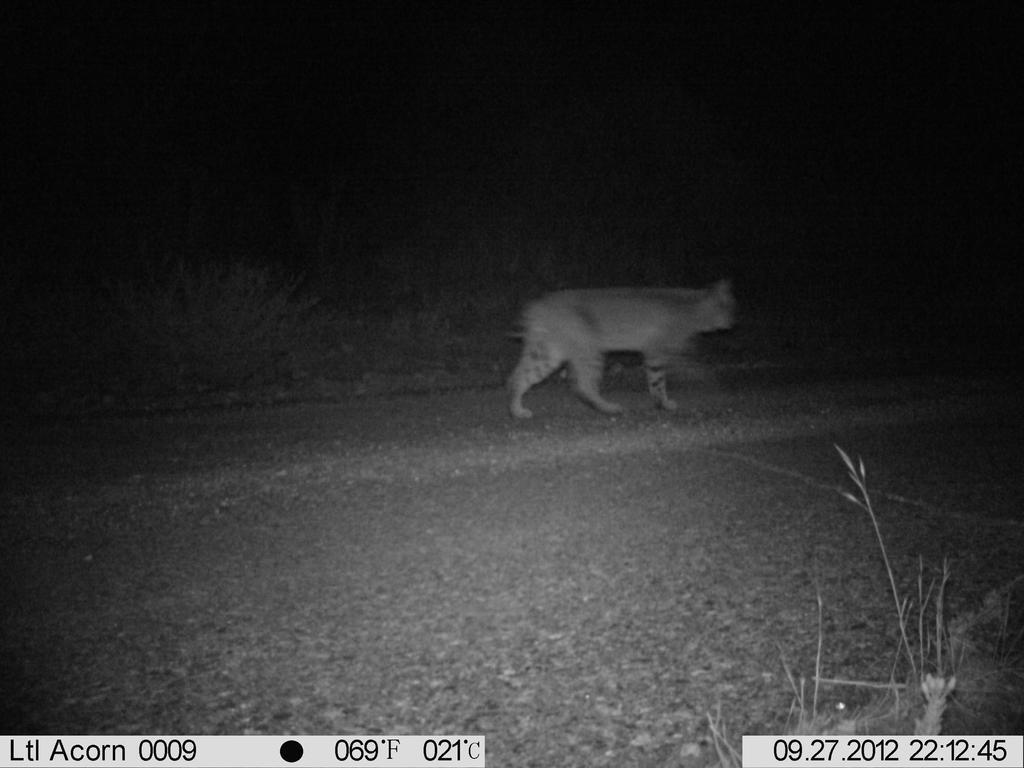bobcat: (498, 268, 751, 428)
